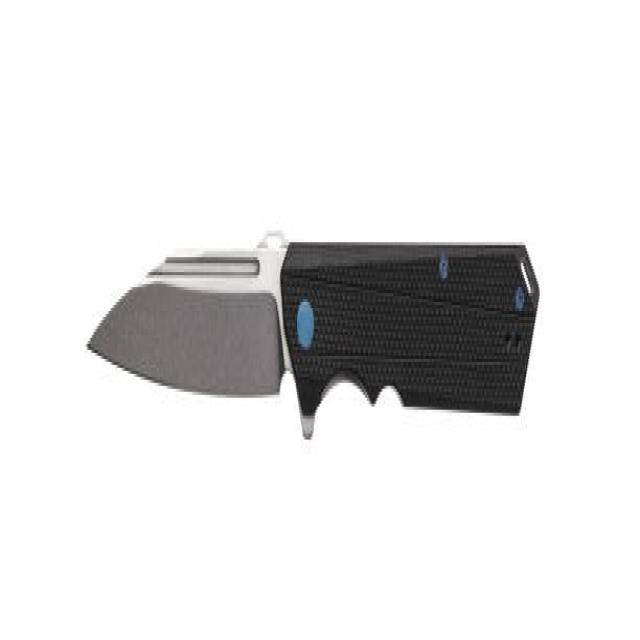knife: (83, 211, 547, 453)
